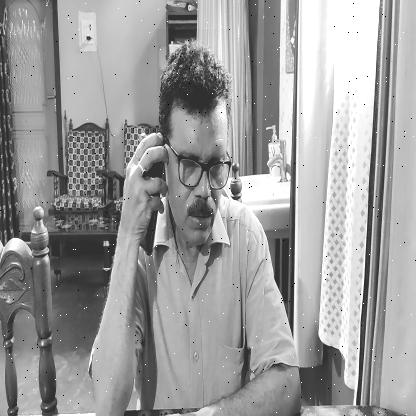Distracted: (157, 29, 228, 257)
